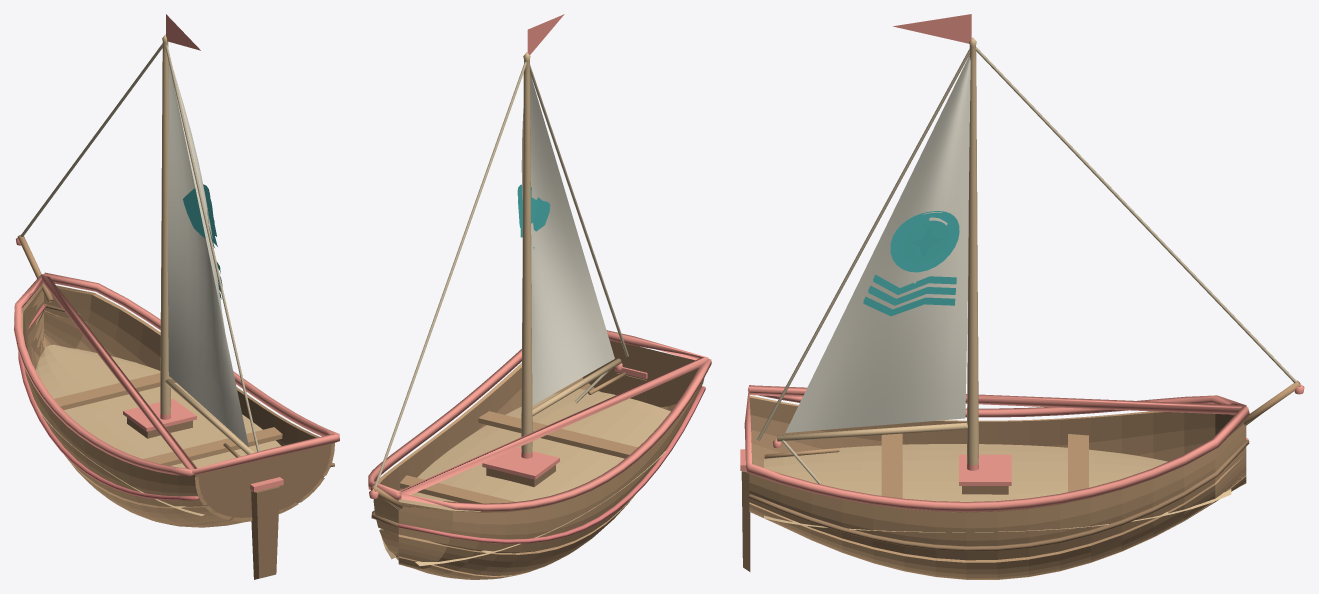
The model's file is boat.glb.
3 views of the same model, side by side, from view 1: azimuth 30°, elevation 25°; view 2: azimuth 150°, elevation 25°; view 3: azimuth 270°, elevation 25° (orthographic). The views are drawn at different scales.
Parts seen in each view (by area): view 1: Boat_Sail, Boat_Deck, Boat_Hull_Planks, Boat_Gunwale_Rail, Boat_Hull_Liner, Boat_Transom, Boat_Mast, Boat_Rudder, Boat_Rigging, Boat_Thwart_Aft, Boat_RubStrake_Port, Boat_Thwart_Fwd (+6 smaller); view 2: Boat_Hull_Planks, Boat_Sail, Boat_Deck, Boat_Gunwale_Rail, Boat_Hull_Liner, Boat_Mast, Boat_Transom, Boat_Rigging, Boat_RubStrake_Port, Boat_Thwart_Aft, Boat_Hatch_Lid, Boat_Thwart_Fwd (+5 smaller); view 3: Boat_Sail, Boat_Hull_Planks, Boat_Deck, Boat_Hull_Liner, Boat_Gunwale_Rail, Boat_Sail_Emblem, Boat_Mast, Boat_Rigging, Boat_RubStrake_Starboard, Boat_Hatch_Lid, Boat_Thwart_Aft, Boom_Butt (+3 smaller).
Boxes of the visible parts, <box> form: Boat_Sail: <box>167,62,248,446</box>; Boat_Deck: <box>35,344,280,515</box>; Boat_Hull_Planks: <box>21,284,334,527</box>; Boat_Gunwale_Rail: <box>14,272,339,476</box>; Boat_Hull_Liner: <box>23,288,315,506</box>; Boat_Transom: <box>195,443,333,519</box>; Boat_Mast: <box>160,34,170,414</box>; Boat_Rudder: <box>251,486,279,579</box>; Boat_Rigging: <box>21,43,259,451</box>; Boat_Thwart_Aft: <box>143,427,282,465</box>; Boat_RubStrake_Port: <box>18,303,199,500</box>; Boat_Thwart_Fwd: <box>54,373,175,409</box>; Boat_Hull_Planks: <box>373,363,704,579</box>; Boat_Sail: <box>521,73,614,405</box>; Boat_Deck: <box>382,389,670,565</box>; Boat_Gunwale_Rail: <box>368,330,711,511</box>; Boat_Hull_Liner: <box>380,367,698,553</box>; Boat_Mast: <box>521,52,532,453</box>; Boat_Transom: <box>582,340,698,407</box>; Boat_Rigging: <box>374,62,628,509</box>; Boat_RubStrake_Port: <box>398,386,705,543</box>; Boat_Thwart_Aft: <box>478,411,637,458</box>; Boat_Hatch_Lid: <box>482,448,559,479</box>; Boat_Thwart_Fwd: <box>399,475,515,503</box>; Boat_Sail: <box>785,55,970,432</box>; Boat_Hull_Planks: <box>749,395,1246,579</box>; Boat_Deck: <box>764,444,1231,532</box>; Boat_Hull_Liner: <box>749,397,1233,512</box>; Boat_Gunwale_Rail: <box>744,385,1249,511</box>; Boat_Sail_Emblem: <box>863,211,959,316</box>; Boat_Mast: <box>967,37,978,465</box>; Boat_Rigging: <box>757,47,1296,484</box>; Boat_RubStrake_Starboard: <box>748,440,1249,551</box>; Boat_Hatch_Lid: <box>959,454,1011,485</box>; Boat_Thwart_Aft: <box>881,433,902,498</box>; Boom_Butt: <box>777,422,967,441</box>.
Bounding box in the file's own units: 3.7 × 9.86 × 9.07.
